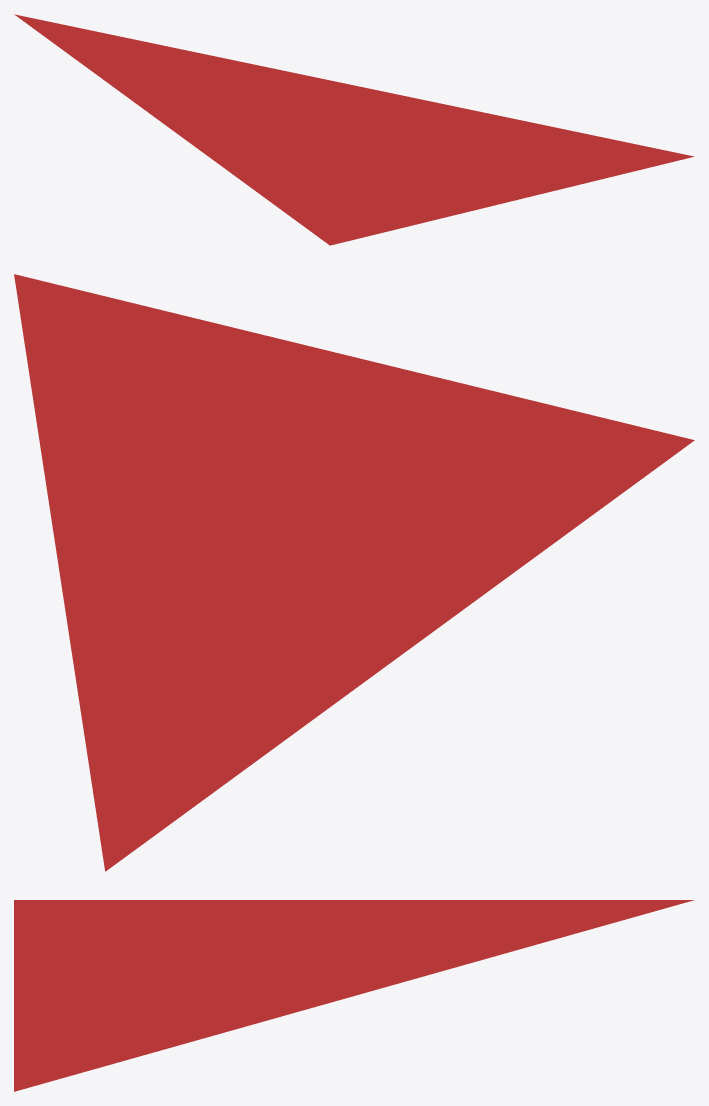
File: broken_texture.dae
3 renders of one model, top to bottom at view 1: azimuth 30°, elevation 25°; view 2: azimuth 150°, elevation 25°; view 3: azimuth 270°, elevation 25°, orthographic. The views are drawn at different scales.
Visible parts, largest first — view 1: n; view 2: n; view 3: n.
Boxes of the visible parts, x1=… form: n: x1=14, y1=14, x2=693, y2=245; n: x1=14, y1=274, x2=694, y2=871; n: x1=14, y1=900, x2=694, y2=1091.
Size of the model in its own units: 2 by 3 by 0.
